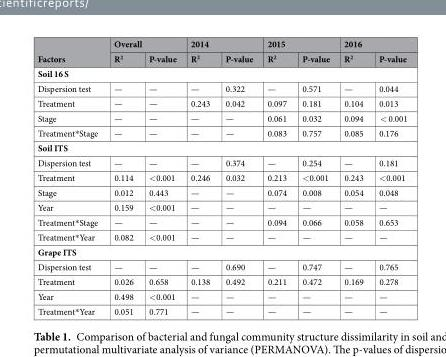table: (36, 37, 406, 317)
table column: (36, 37, 105, 317), (293, 37, 336, 317), (140, 37, 182, 317), (217, 37, 259, 317), (370, 37, 406, 317), (105, 37, 140, 317), (182, 37, 217, 317), (259, 37, 293, 317), (336, 37, 370, 317)
table column header: (36, 37, 406, 65)
table projected row header: (36, 65, 406, 80), (36, 244, 406, 259), (36, 140, 406, 154)
table row: (36, 124, 406, 140), (36, 50, 406, 65), (36, 65, 406, 80), (36, 80, 406, 95), (36, 95, 406, 110), (36, 154, 406, 169), (36, 169, 406, 184), (36, 184, 406, 199), (36, 199, 406, 214), (36, 214, 406, 229), (36, 229, 406, 244), (36, 244, 406, 259), (36, 273, 406, 288), (36, 288, 406, 303), (36, 110, 406, 124), (36, 140, 406, 154), (36, 259, 406, 273), (36, 303, 406, 317), (36, 37, 406, 50)
table spanning cell: (36, 37, 105, 65), (105, 37, 182, 50), (182, 37, 259, 50), (259, 37, 336, 50), (336, 37, 406, 50)
